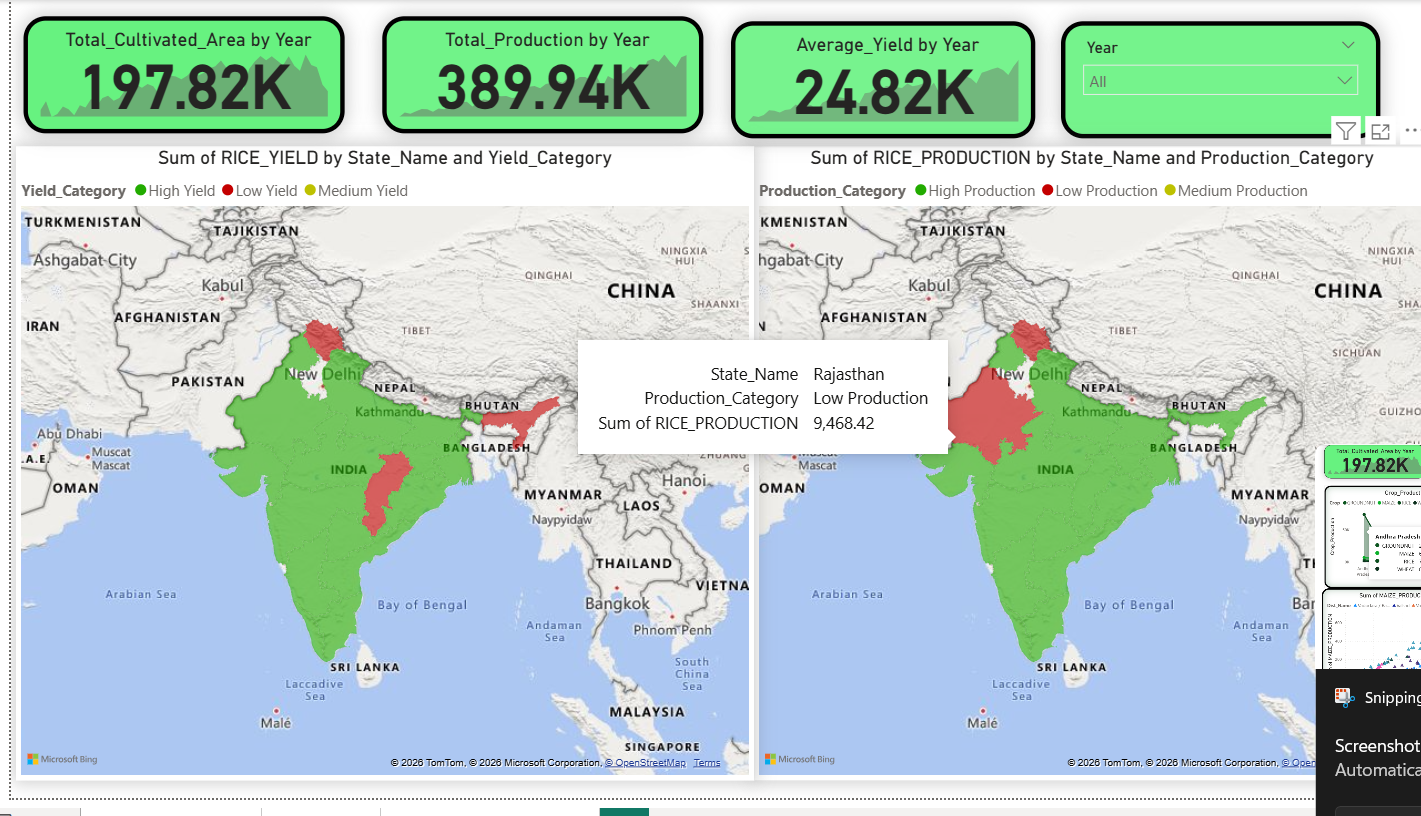

This screenshot's page, from the dashboard's own definition file:
{"tool":"powerbi","page":{"name":"State Wise Yield Analysis","canvas":[1280,720],"ordinal":2},"visuals":[{"type":"slicer","fields":{"Values":["agri_data.Year"]},"box":[946.8,19.2,288.2,105.7],"z":0},{"type":"filledMap","fields":{"Category":["agri_data.State_Name"],"Series":["agri_data.Production_Category"]},"box":[669.6,131.7,610.6,572.2],"z":1000},{"type":"filledMap","fields":{"Category":["agri_data.State_Name"],"Series":["agri_data.Yield_Category"]},"box":[4.1,131.7,665.5,572.2],"z":2000},{"type":"kpi","fields":{"TrendLine":["agri_data.Year"],"Indicator":["agri_data.Total_Cultivated_Area"]},"box":[11,15.1,289.5,105.7],"z":3000},{"type":"kpi","fields":{"Indicator":["agri_data.Total_Production"],"TrendLine":["agri_data.Year"]},"box":[334.8,15.1,289.5,105.7],"z":4000},{"type":"kpi","fields":{"TrendLine":["agri_data.Year"],"Indicator":["agri_data.Average_Yield"]},"box":[649.1,19.2,274.4,105.7],"z":5000}]}

Visuals, with their boxes on the page's 1280x720 design canvas (x1, y1, x2, y2). These are canvas units, not pixel positions in the 1421x816 screenshot, which may show the page scaled, cropped or inside an application window:
slicer - agri_data.Year: <region>947, 19, 1235, 125</region>
filledMap - agri_data.State_Name x agri_data.Production_Category: <region>670, 132, 1280, 704</region>
filledMap - agri_data.State_Name x agri_data.Yield_Category: <region>4, 132, 670, 704</region>
kpi - agri_data.Year x agri_data.Total_Cultivated_Area: <region>11, 15, 300, 121</region>
kpi - agri_data.Total_Production x agri_data.Year: <region>335, 15, 624, 121</region>
kpi - agri_data.Year x agri_data.Average_Yield: <region>649, 19, 924, 125</region>
